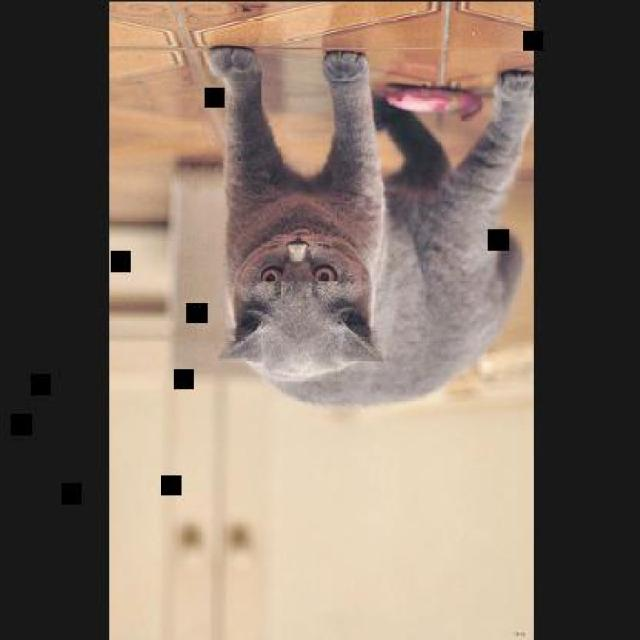unauthorized: (202, 43, 532, 406)
